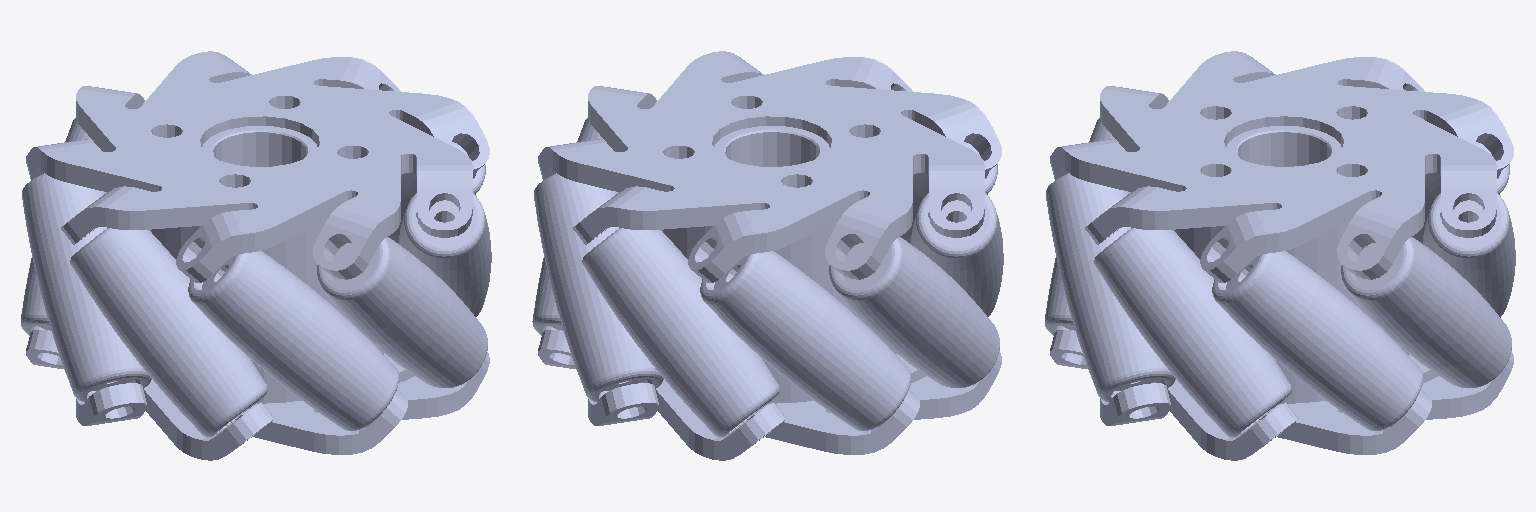
URDF robot description (Mecanum-Right):
<?xml version="1.0" encoding="utf-8"?>
<!-- This URDF was automatically created by SolidWorks to URDF Exporter! Originally created by [author] ([email redacted]) 
     Commit Version: 1.6.0-4-g7f85cfe  Build Version: 1.6.7995.38578
     For more information, please see http://wiki.ros.org/sw_urdf_exporter -->
<robot
  name="Mecanum-Right">
  <link
    name="Right_Base_Link">
    <inertial>
      <origin
        xyz="0.00465786271618246 -6.93889390390723E-18 -5.85469173142172E-18"
        rpy="0 0 0" />
      <mass
        value="0.0110925597603562" />
      <inertia
        ixx="1.39920510272198E-06"
        ixy="8.93287762618103E-22"
        ixz="2.59668373970243E-21"
        iyy="9.49230299056441E-07"
        iyz="-1.33751335600186E-22"
        izz="9.49230299056441E-07" />
    </inertial>
    <visual>
      <origin
        xyz="0 0 0"
        rpy="0 0 0" />
      <geometry>
        <mesh
          filename="package://Mecanum-Right/meshes/Right_Base_Link.STL" />
      </geometry>
      <material
        name="">
        <color
          rgba="0.792156862745098 0.819607843137255 0.933333333333333 1" />
      </material>
    </visual>
    <collision>
      <origin
        xyz="0 0 0"
        rpy="0 0 0" />
      <geometry>
        <mesh
          filename="package://Mecanum-Right/meshes/Right_Base_Link.STL" />
      </geometry>
    </collision>
  </link>
  <link
    name="Mecanum_Roller_Link1">
    <inertial>
      <origin
        xyz="0.0046501299257092 -0.0162640055968391 -0.0057506377756141"
        rpy="0 0 0" />
      <mass
        value="0.00104310145784987" />
      <inertia
        ixx="2.39450694165093E-08"
        ixy="4.78057965954515E-09"
        ixz="-1.31345346665044E-08"
        iyy="3.62874947200801E-08"
        iyz="4.49227542915381E-09"
        izz="2.55801239568466E-08" />
    </inertial>
    <visual>
      <origin
        xyz="0 0 0"
        rpy="0 0 0" />
      <geometry>
        <mesh
          filename="package://Mecanum-Right/meshes/Mecanum_Roller_Link1.STL" />
      </geometry>
      <material
        name="">
        <color
          rgba="0.792156862745098 0.819607843137255 0.933333333333333 1" />
      </material>
    </visual>
    <collision>
      <origin
        xyz="0 0 0"
        rpy="0 0 0" />
      <geometry>
        <mesh
          filename="package://Mecanum-Right/meshes/Mecanum_Roller_Link1.STL" />
      </geometry>
    </collision>
  </link>
  <joint
    name="Mecanum_Roller_1"
    type="continuous">
    <origin
      xyz="0 0 0"
      rpy="0 0 0" />
    <parent
      link="Right_Base_Link" />
    <child
      link="Mecanum_Roller_Link1" />
    <axis
      xyz="-1 0 0" />
  </joint>
  <link
    name="Mecanum_Roller_Link2">
    <inertial>
      <origin
        xyz="0.00465012992570909 -0.00876251240035445 -0.01485954539392"
        rpy="0 0 0" />
      <mass
        value="0.00104310145784987" />
      <inertia
        ixx="2.39450694165094E-08"
        ixy="1.21048526257095E-08"
        ixz="-6.98873992195412E-09"
        iyy="2.74394393774863E-08"
        iyz="6.05242631285478E-09"
        izz="3.44281792994405E-08" />
    </inertial>
    <visual>
      <origin
        xyz="0 0 0"
        rpy="0 0 0" />
      <geometry>
        <mesh
          filename="package://Mecanum-Right/meshes/Mecanum_Roller_Link2.STL" />
      </geometry>
      <material
        name="">
        <color
          rgba="0.792156862745098 0.819607843137255 0.933333333333333 1" />
      </material>
    </visual>
    <collision>
      <origin
        xyz="0 0 0"
        rpy="0 0 0" />
      <geometry>
        <mesh
          filename="package://Mecanum-Right/meshes/Mecanum_Roller_Link2.STL" />
      </geometry>
    </collision>
  </link>
  <joint
    name="Mecanum_Roller_2"
    type="continuous">
    <origin
      xyz="0 0 0"
      rpy="0 0 0" />
    <parent
      link="Right_Base_Link" />
    <child
      link="Mecanum_Roller_Link2" />
    <axis
      xyz="-1 0 0" />
  </joint>
  <link
    name="Mecanum_Roller_Link3">
    <inertial>
      <origin
        xyz="0.00465012992570885 0.00283905773273392 -0.0170155065769591"
        rpy="0 0 0" />
      <mass
        value="0.00104310145784987" />
      <inertia
        ixx="2.39450694160864E-08"
        ixy="1.37651305179916E-08"
        ixz="2.42716390329539E-09"
        iyy="2.43665420047924E-08"
        iyz="-2.39028982979668E-09"
        izz="3.75010766714294E-08" />
    </inertial>
    <visual>
      <origin
        xyz="0 0 0"
        rpy="0 0 0" />
      <geometry>
        <mesh
          filename="package://Mecanum-Right/meshes/Mecanum_Roller_Link3.STL" />
      </geometry>
      <material
        name="">
        <color
          rgba="0.792156862745098 0.819607843137255 0.933333333333333 1" />
      </material>
    </visual>
    <collision>
      <origin
        xyz="0 0 0"
        rpy="0 0 0" />
      <geometry>
        <mesh
          filename="package://Mecanum-Right/meshes/Mecanum_Roller_Link3.STL" />
      </geometry>
    </collision>
  </link>
  <joint
    name="Mecanum_Roller_3"
    type="continuous">
    <origin
      xyz="0 0 0"
      rpy="0 0 0" />
    <parent
      link="Right_Base_Link" />
    <child
      link="Mecanum_Roller_Link3" />
    <axis
      xyz="-1 0 0" />
  </joint>
  <link
    name="Mecanum_Roller_Link4">
    <inertial>
      <origin
        xyz="0.00465012992570855 0.013112201200064 -0.0112097231263478"
        rpy="0 0 0" />
      <mass
        value="0.00104310145784984" />
      <inertia
        ixx="2.39450694163438E-08"
        ixy="8.98455085834306E-09"
        ixz="1.07073707632757E-08"
        iyy="3.21473912899657E-08"
        iyz="-6.88256525895356E-09"
        izz="2.97202273866852E-08" />
    </inertial>
    <visual>
      <origin
        xyz="0 0 0"
        rpy="0 0 0" />
      <geometry>
        <mesh
          filename="package://Mecanum-Right/meshes/Mecanum_Roller_Link4.STL" />
      </geometry>
      <material
        name="">
        <color
          rgba="0.792156862745098 0.819607843137255 0.933333333333333 1" />
      </material>
    </visual>
    <collision>
      <origin
        xyz="0 0 0"
        rpy="0 0 0" />
      <geometry>
        <mesh
          filename="package://Mecanum-Right/meshes/Mecanum_Roller_Link4.STL" />
      </geometry>
    </collision>
  </link>
  <joint
    name="Mecanum_Roller_4"
    type="continuous">
    <origin
      xyz="0 0 0"
      rpy="0 0 0" />
    <parent
      link="Right_Base_Link" />
    <child
      link="Mecanum_Roller_Link4" />
    <axis
      xyz="-1 0 0" />
  </joint>
  <link
    name="Mecanum_Roller_Link5">
    <inertial>
      <origin
        xyz="0.00465012992570831 0.01725 -0.000158785642722778"
        rpy="0 0 0" />
      <mass
        value="0.00104310145784987" />
      <inertia
        ixx="2.3945069415987E-08"
        ixy="1.66526240789793E-24"
        ixz="1.39774798440688E-08"
        iyy="3.79225492600558E-08"
        iyz="-1.81331197345348E-24"
        izz="2.39450694159869E-08" />
    </inertial>
    <visual>
      <origin
        xyz="0 0 0"
        rpy="0 0 0" />
      <geometry>
        <mesh
          filename="package://Mecanum-Right/meshes/Mecanum_Roller_Link5.STL" />
      </geometry>
      <material
        name="">
        <color
          rgba="0.792156862745098 0.819607843137255 0.933333333333333 1" />
      </material>
    </visual>
    <collision>
      <origin
        xyz="0 0 0"
        rpy="0 0 0" />
      <geometry>
        <mesh
          filename="package://Mecanum-Right/meshes/Mecanum_Roller_Link5.STL" />
      </geometry>
    </collision>
  </link>
  <joint
    name="Mecanum_Roller_5"
    type="continuous">
    <origin
      xyz="0 0 0"
      rpy="0 0 0" />
    <parent
      link="Right_Base_Link" />
    <child
      link="Mecanum_Roller_Link5" />
    <axis
      xyz="-1 0 0" />
  </joint>
  <link
    name="Mecanum_Roller_Link6">
    <inertial>
      <origin
        xyz="0.0046501299257083 0.0133163320875407 0.0109664494078379"
        rpy="0 0 0" />
      <mass
        value="0.00104310145784992" />
      <inertia
        ixx="2.39450694163474E-08"
        ixy="-8.98455085835093E-09"
        ixz="1.07073707632851E-08"
        iyy="3.21473912899766E-08"
        iyz="6.88256525895961E-09"
        izz="2.97202273866939E-08" />
    </inertial>
    <visual>
      <origin
        xyz="0 0 0"
        rpy="0 0 0" />
      <geometry>
        <mesh
          filename="package://Mecanum-Right/meshes/Mecanum_Roller_Link6.STL" />
      </geometry>
      <material
        name="">
        <color
          rgba="0.792156862745098 0.819607843137255 0.933333333333333 1" />
      </material>
    </visual>
    <collision>
      <origin
        xyz="0 0 0"
        rpy="0 0 0" />
      <geometry>
        <mesh
          filename="package://Mecanum-Right/meshes/Mecanum_Roller_Link6.STL" />
      </geometry>
    </collision>
  </link>
  <joint
    name="Mecanum_Roller_6"
    type="continuous">
    <origin
      xyz="0 0 0"
      rpy="0 0 0" />
    <parent
      link="Right_Base_Link" />
    <child
      link="Mecanum_Roller_Link6" />
    <axis
      xyz="-1 0 0" />
  </joint>
  <link
    name="Mecanum_Roller_Link7">
    <inertial>
      <origin
        xyz="0.00465012992570951 0.00315180439677604 0.0169603609019619"
        rpy="0 0 0" />
      <mass
        value="0.00104310145784987" />
      <inertia
        ixx="2.39450694162558E-08"
        ixy="-1.37651305179359E-08"
        ixz="2.4271639032856E-09"
        iyy="2.43665420049602E-08"
        iyz="2.39028982978704E-09"
        izz="3.7501076671544E-08" />
    </inertial>
    <visual>
      <origin
        xyz="0 0 0"
        rpy="0 0 0" />
      <geometry>
        <mesh
          filename="package://Mecanum-Right/meshes/Mecanum_Roller_Link7.STL" />
      </geometry>
      <material
        name="">
        <color
          rgba="0.792156862745098 0.819607843137255 0.933333333333333 1" />
      </material>
    </visual>
    <collision>
      <origin
        xyz="0 0 0"
        rpy="0 0 0" />
      <geometry>
        <mesh
          filename="package://Mecanum-Right/meshes/Mecanum_Roller_Link7.STL" />
      </geometry>
    </collision>
  </link>
  <joint
    name="Mecanum_Roller_7"
    type="continuous">
    <origin
      xyz="0 0 0"
      rpy="0 0 0" />
    <parent
      link="Right_Base_Link" />
    <child
      link="Mecanum_Roller_Link7" />
    <axis
      xyz="-1 0 0" />
  </joint>
  <link
    name="Mecanum_Roller_Link8">
    <inertial>
      <origin
        xyz="0.00465012992570878 -0.00848748759964562 0.0150183310366431"
        rpy="0 0 0" />
      <mass
        value="0.00104310145784982" />
      <inertia
        ixx="2.39450694160052E-08"
        ixy="-1.2104852625855E-08"
        ixz="-6.98873992203814E-09"
        iyy="2.74394393770242E-08"
        iyz="-6.05242631292753E-09"
        izz="3.44281792990624E-08" />
    </inertial>
    <visual>
      <origin
        xyz="0 0 0"
        rpy="0 0 0" />
      <geometry>
        <mesh
          filename="package://Mecanum-Right/meshes/Mecanum_Roller_Link8.STL" />
      </geometry>
      <material
        name="">
        <color
          rgba="0.792156862745098 0.819607843137255 0.933333333333333 1" />
      </material>
    </visual>
    <collision>
      <origin
        xyz="0 0 0"
        rpy="0 0 0" />
      <geometry>
        <mesh
          filename="package://Mecanum-Right/meshes/Mecanum_Roller_Link8.STL" />
      </geometry>
    </collision>
  </link>
  <joint
    name="Mecanum_Roller_8"
    type="continuous">
    <origin
      xyz="0 0 0"
      rpy="0 0 0" />
    <parent
      link="Right_Base_Link" />
    <child
      link="Mecanum_Roller_Link8" />
    <axis
      xyz="-1 0 0" />
  </joint>
  <link
    name="Mecanum_Roller_Link9">
    <inertial>
      <origin
        xyz="0.00465012992571009 -0.0161553898202744 0.00604905716912235"
        rpy="0 0 0" />
      <mass
        value="0.00104310145784984" />
      <inertia
        ixx="2.39450694163438E-08"
        ixy="-4.78057965956403E-09"
        ixz="-1.31345346665562E-08"
        iyy="3.62874947199633E-08"
        iyz="-4.49227542917155E-09"
        izz="2.55801239566876E-08" />
    </inertial>
    <visual>
      <origin
        xyz="0 0 0"
        rpy="0 0 0" />
      <geometry>
        <mesh
          filename="package://Mecanum-Right/meshes/Mecanum_Roller_Link9.STL" />
      </geometry>
      <material
        name="">
        <color
          rgba="0.792156862745098 0.819607843137255 0.933333333333333 1" />
      </material>
    </visual>
    <collision>
      <origin
        xyz="0 0 0"
        rpy="0 0 0" />
      <geometry>
        <mesh
          filename="package://Mecanum-Right/meshes/Mecanum_Roller_Link9.STL" />
      </geometry>
    </collision>
  </link>
  <joint
    name="Mecanum_Roller_9"
    type="continuous">
    <origin
      xyz="0 0 0"
      rpy="0 0 0" />
    <parent
      link="Right_Base_Link" />
    <child
      link="Mecanum_Roller_Link9" />
    <axis
      xyz="-1 0 0" />
  </joint>
</robot>

--- Facts derived from the render (not from the file) ---
The picture shows the robot from 3 angles, left to right: view 1: azimuth 30°, elevation 25°; view 2: azimuth 150°, elevation 25°; view 3: azimuth 270°, elevation 25°; orthographic projection.
Robot: Mecanum-Right — 10 links, 9 joints (9 continuous); root link Right_Base_Link; default pose: every joint at zero.
Visible links, largest first — view 1: Right_Base_Link, Mecanum_Roller_Link2, Mecanum_Roller_Link1, Mecanum_Roller_Link9, Mecanum_Roller_Link3, Mecanum_Roller_Link8, Mecanum_Roller_Link4, Mecanum_Roller_Link7; view 2: Right_Base_Link, Mecanum_Roller_Link5, Mecanum_Roller_Link4, Mecanum_Roller_Link3, Mecanum_Roller_Link6, Mecanum_Roller_Link2, Mecanum_Roller_Link7, Mecanum_Roller_Link1; view 3: Right_Base_Link, Mecanum_Roller_Link8, Mecanum_Roller_Link7, Mecanum_Roller_Link6, Mecanum_Roller_Link9, Mecanum_Roller_Link5, Mecanum_Roller_Link1, Mecanum_Roller_Link4.
Boxes of the visible links, box(x1,y1,x2,y2) form: Right_Base_Link: box(26, 51, 489, 460); Mecanum_Roller_Link2: box(70, 228, 267, 437); Mecanum_Roller_Link1: box(188, 251, 398, 430); Mecanum_Roller_Link9: box(317, 237, 487, 387); Mecanum_Roller_Link3: box(22, 174, 151, 402); Mecanum_Roller_Link8: box(398, 193, 491, 316); Mecanum_Roller_Link4: box(21, 118, 100, 335); Mecanum_Roller_Link7: box(388, 142, 485, 242); Right_Base_Link: box(538, 51, 1001, 460); Mecanum_Roller_Link5: box(582, 228, 779, 436); Mecanum_Roller_Link4: box(700, 251, 910, 430); Mecanum_Roller_Link3: box(829, 237, 999, 387); Mecanum_Roller_Link6: box(534, 174, 663, 401); Mecanum_Roller_Link2: box(911, 193, 1003, 316); Mecanum_Roller_Link7: box(532, 118, 612, 335); Mecanum_Roller_Link1: box(900, 142, 997, 243); Right_Base_Link: box(1050, 51, 1513, 460); Mecanum_Roller_Link8: box(1094, 228, 1291, 437); Mecanum_Roller_Link7: box(1212, 251, 1422, 430); Mecanum_Roller_Link6: box(1341, 237, 1511, 387); Mecanum_Roller_Link9: box(1046, 173, 1175, 402); Mecanum_Roller_Link5: box(1423, 193, 1515, 317); Mecanum_Roller_Link1: box(1045, 118, 1124, 335); Mecanum_Roller_Link4: box(1412, 142, 1509, 243).
Bounding box of the posed robot: 0.0442 × 0.044 × 0.0236 m (x, y, z).
10 mesh visuals loaded from 10 distinct referenced files (10 binary STL).